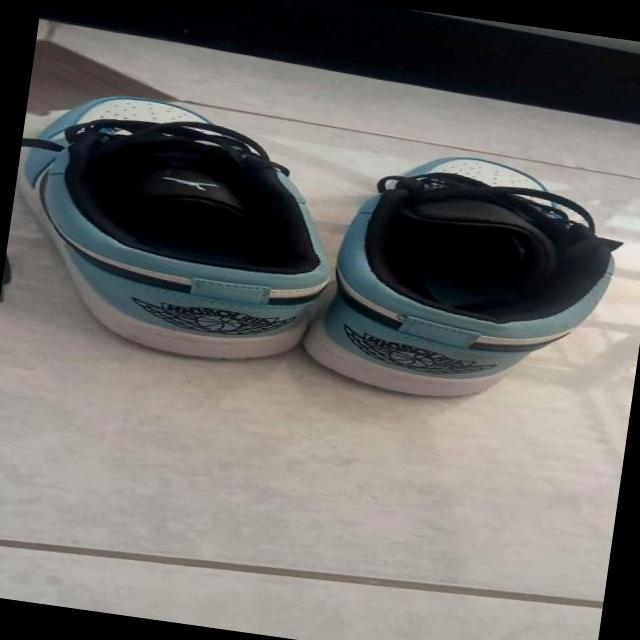nike_fake_jordan: (0, 77, 357, 373), (296, 149, 630, 424)
